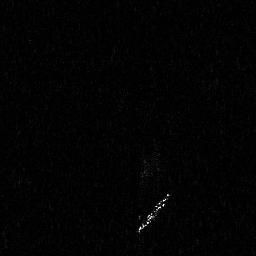ship: (138, 191, 171, 232)
